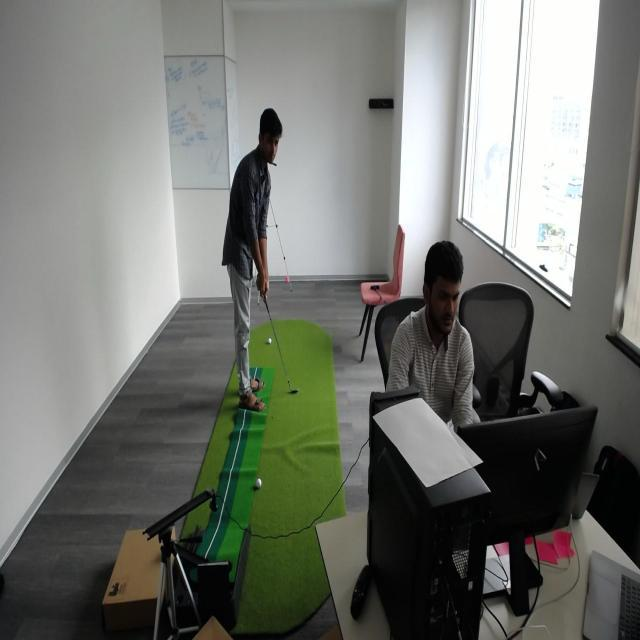ClubHead: (282, 368, 303, 400)
GolfBall: (254, 475, 264, 495), (266, 336, 276, 346)
